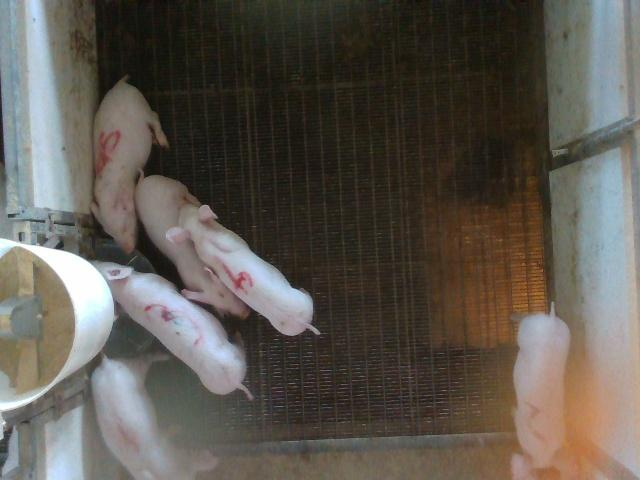pig-1: (91, 358, 179, 479)
pig-2: (511, 310, 579, 479)
pig-3: (92, 262, 251, 398)
pig-4: (166, 205, 320, 336)
pig-5: (91, 76, 169, 254)
